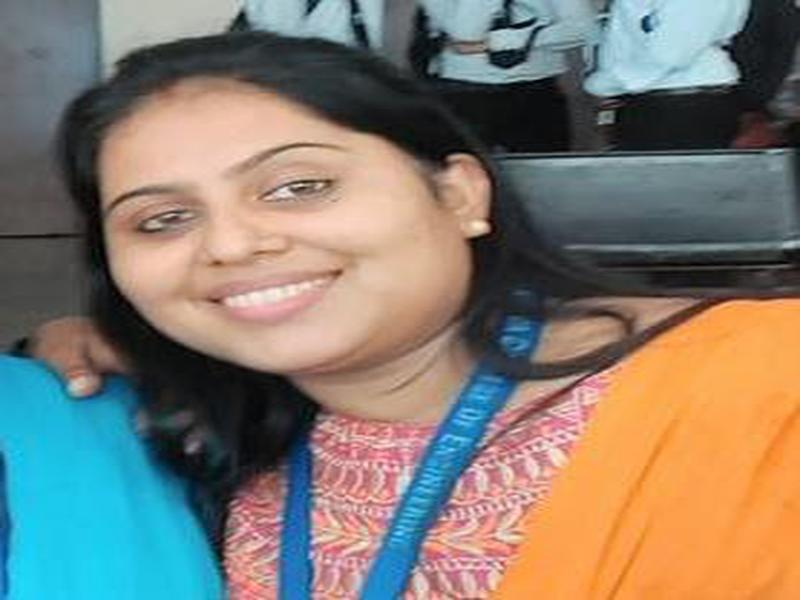without_mask: (95, 125, 436, 368)
